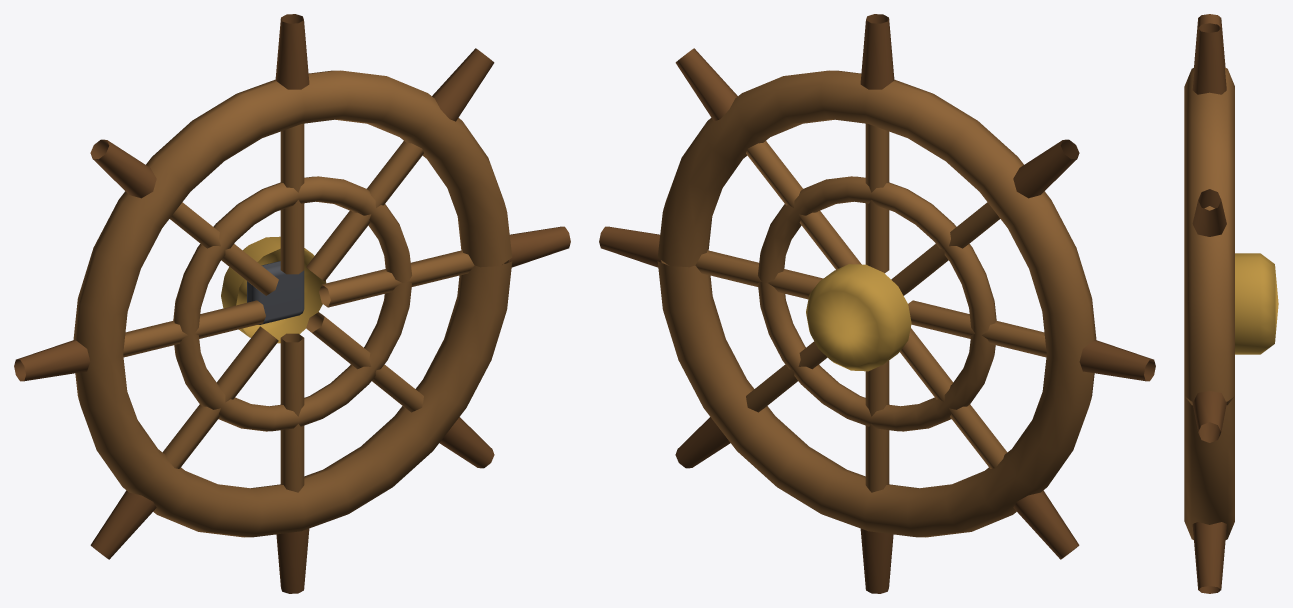
The model's file is furn_ship_wheel.glb.
3 renders of one model, left to right at view 1: azimuth 30°, elevation 25°; view 2: azimuth 150°, elevation 25°; view 3: azimuth 270°, elevation 25°, orthographic. The views are drawn at different scales.
Parts seen in each view (by area): view 1: furn_ship_wheel_move, furn_ship_wheel_main; view 2: furn_ship_wheel_move; view 3: furn_ship_wheel_move.
Boxes of the visible parts, x1,y1,x2,y2 form: furn_ship_wheel_move: (14,14,570,593); furn_ship_wheel_main: (247,261,304,324); furn_ship_wheel_move: (599,14,1155,593); furn_ship_wheel_move: (1184,14,1278,593).
Size of the model in its own units: 0.84 by 0.84 by 0.13.
